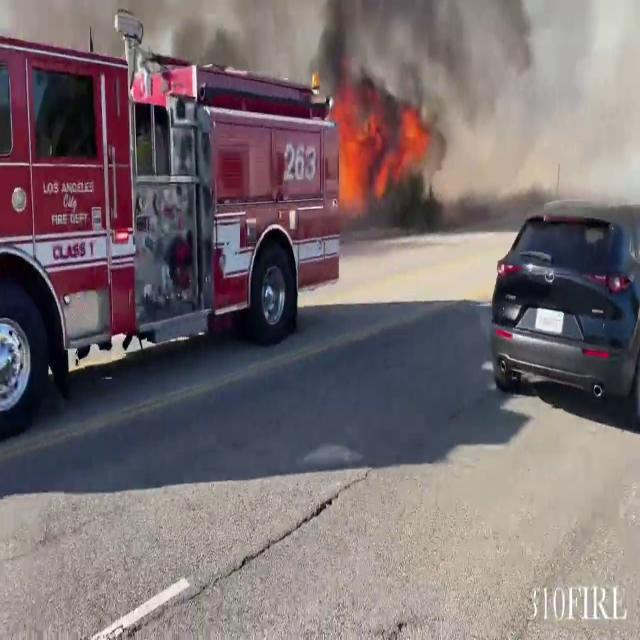Fire: (329, 81, 379, 215)
Smoke: (372, 0, 623, 217)
